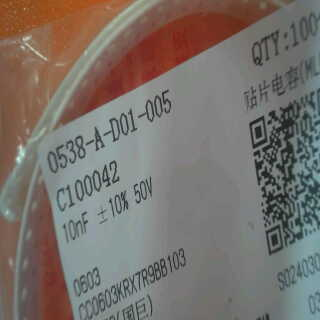10nF: (59, 207, 92, 245)
